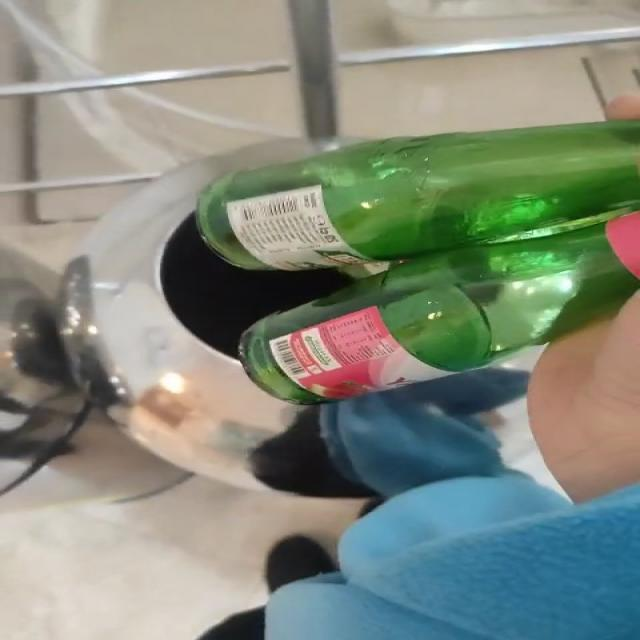Glass: (197, 119, 639, 405)
